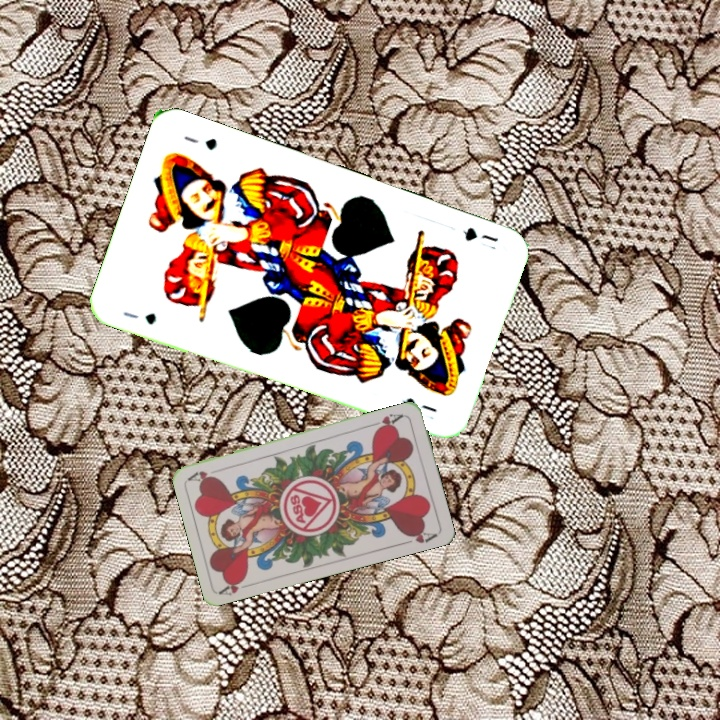GU: (458, 223, 501, 245), (119, 307, 159, 328)
HA: (367, 410, 407, 434), (217, 574, 257, 598)
